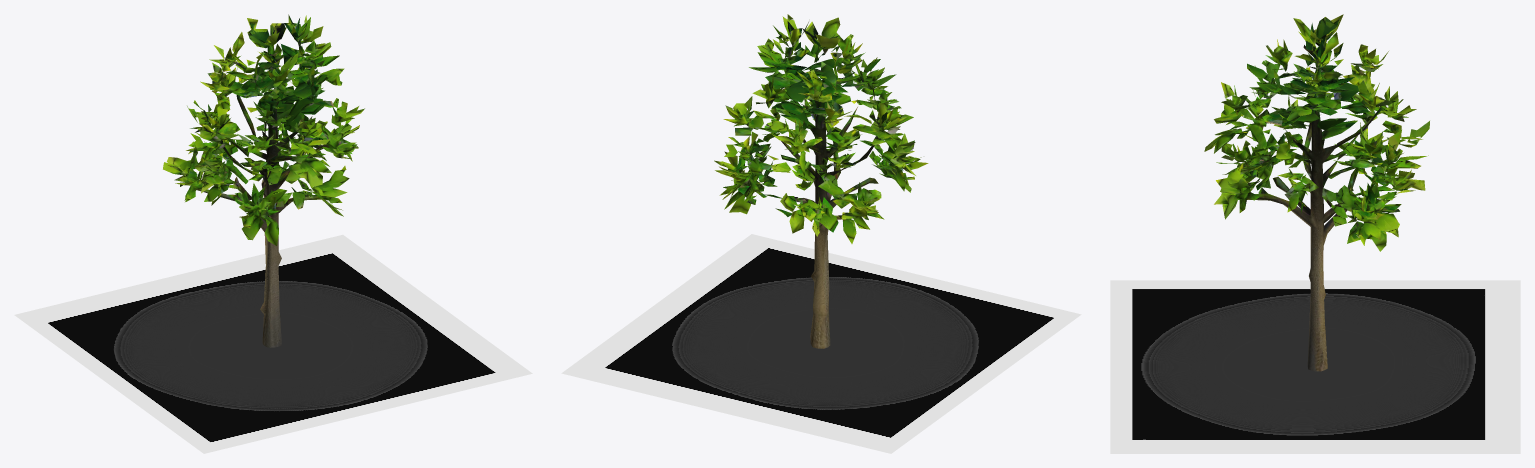
File: Baby.fbx
3 views of the same model, side by side, from view 1: azimuth 30°, elevation 25°; view 2: azimuth 150°, elevation 25°; view 3: azimuth 270°, elevation 25° (orthographic). The views are drawn at different scales.
Visible parts, largest first — view 1: Shadow, tripo_node_88082931; view 2: Shadow, tripo_node_88082931; view 3: Shadow, tripo_node_88082931.
Part boxes in pixels (x1,y1,x2,y2): Shadow: (14, 234, 532, 453); tripo_node_88082931: (163, 14, 364, 347); Shadow: (561, 234, 1081, 453); tripo_node_88082931: (714, 14, 928, 348); Shadow: (1110, 280, 1520, 453); tripo_node_88082931: (1204, 14, 1429, 371).
Bounding box in the file's own units: 100 × 94.75 × 100.
